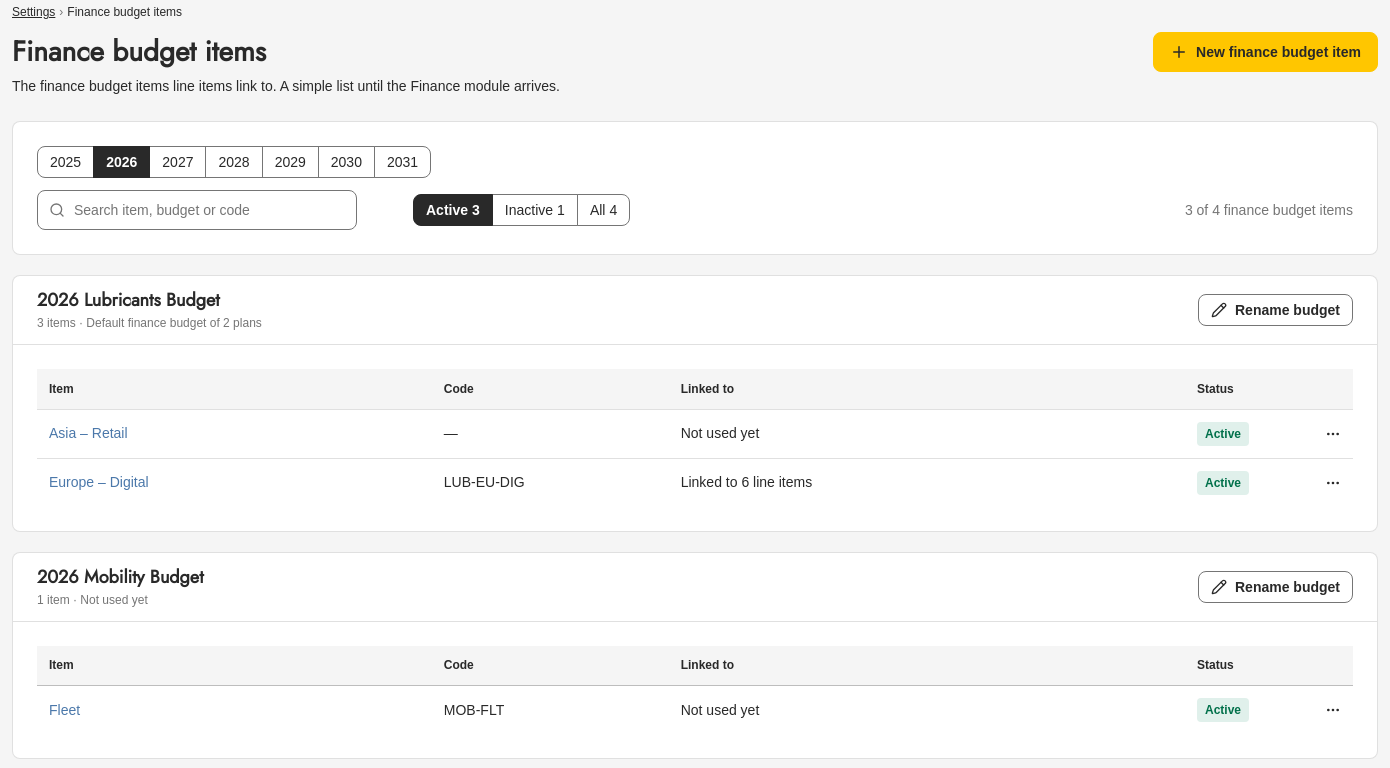
Test: FinanceBudgetItemsPage: the list (FR-014, FR-015) › switches the budget year, keeping it in the address
expect the element "2026 Lubricants Budget" is shown: met, box [12,275,1378,532]
What coordinates should you click on to do the following:
click the button "2027"
I would click on:
 (178, 162)
Its box is [149,146,206,178].
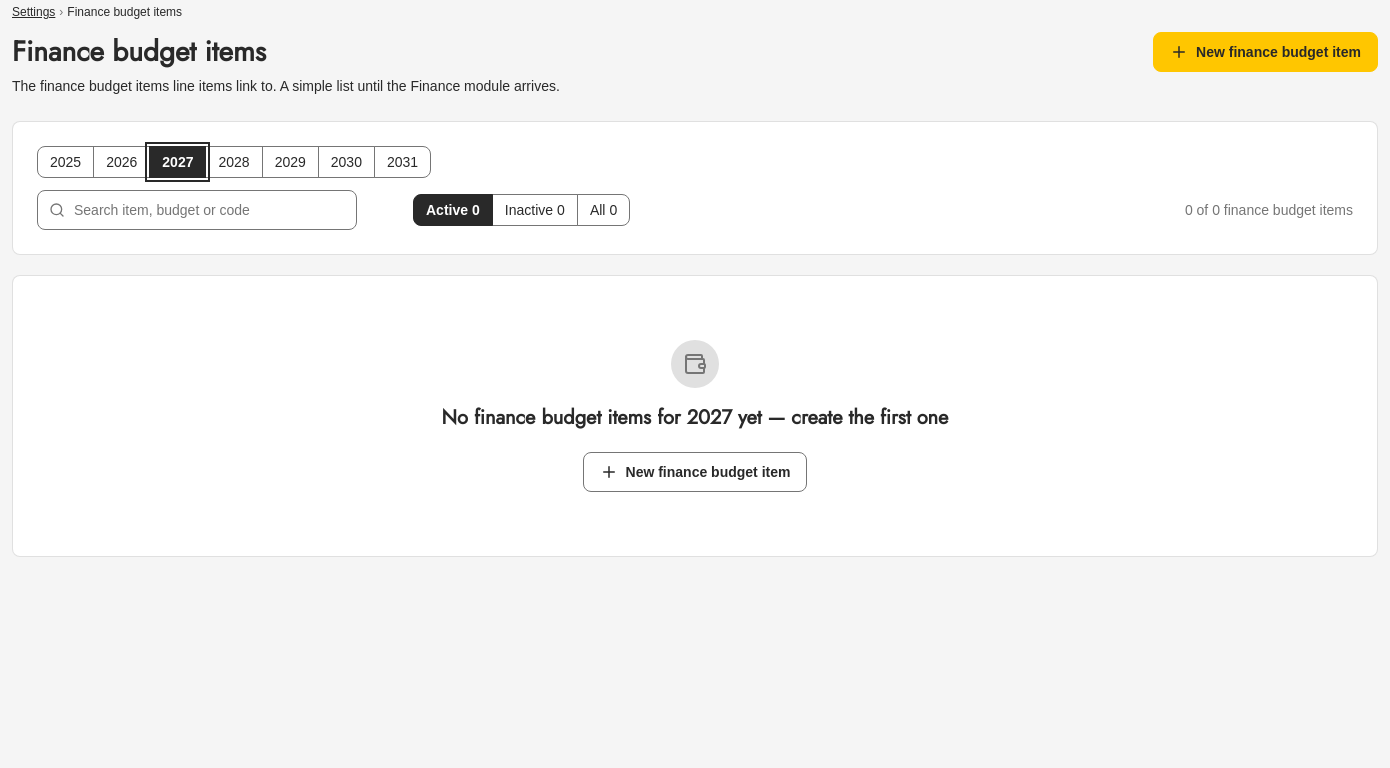
expect the text "No finance budget items for 2027 yet — create the first one" is shown: met, box [442,404,948,432]
expect the number of buttons "New finance budget item" is 2: met, box [1153,32,1378,72]; [582,452,807,492]
